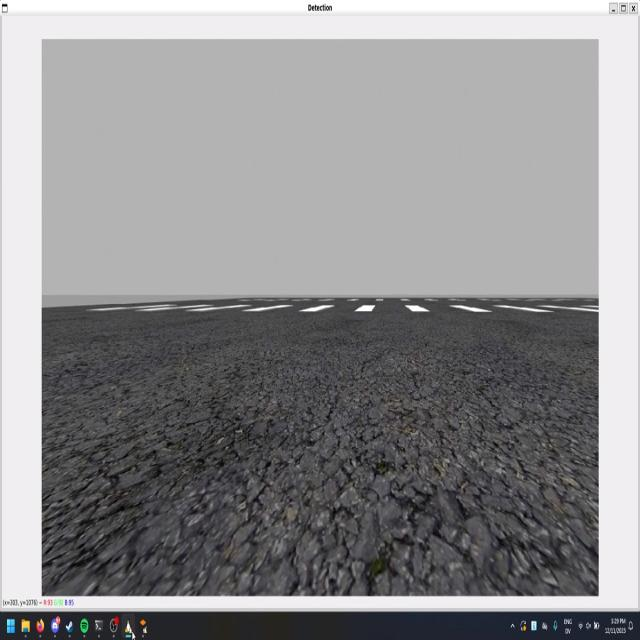crosswalk: (84, 306, 598, 313)
